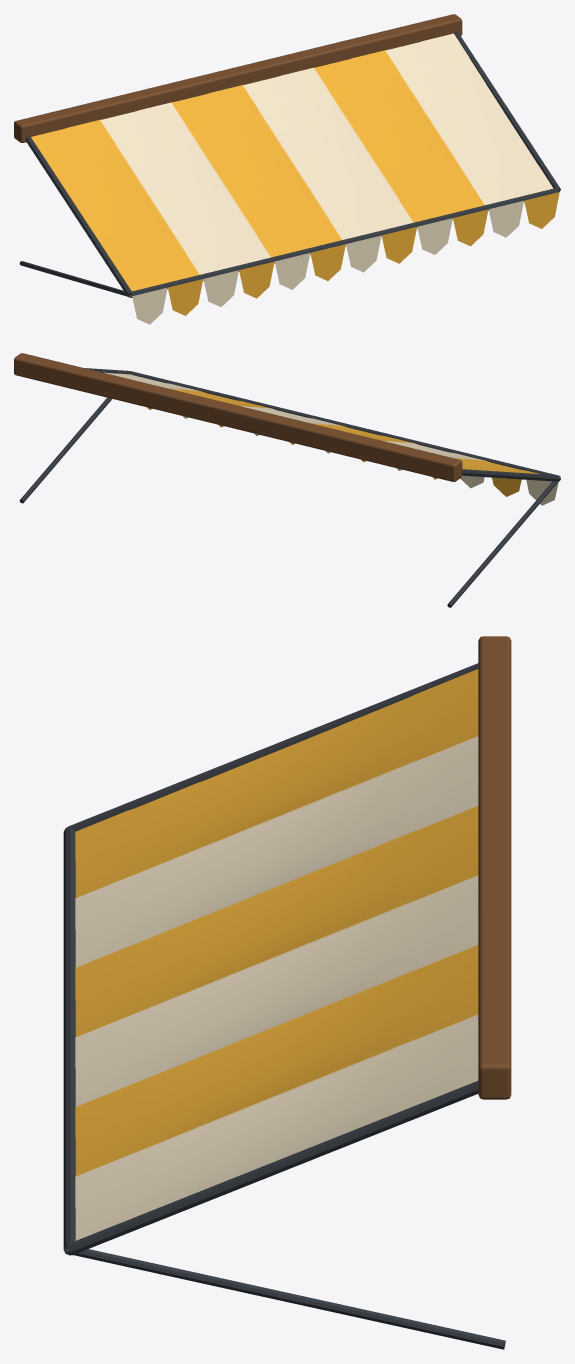
Rendered from mk_awning_saffron.glb.
3 renders of one model, top to bottom at view 1: azimuth 30°, elevation 25°; view 2: azimuth 150°, elevation 25°; view 3: azimuth 270°, elevation 25°, orthographic. The views are drawn at different scales.
Visible parts, largest first — view 1: mk_awning_saffron_body; view 2: mk_awning_saffron_body; view 3: mk_awning_saffron_body.
Part boxes in pixels (x1,y1,x2,y2): mk_awning_saffron_body: [14, 14, 560, 324]; mk_awning_saffron_body: [14, 353, 560, 607]; mk_awning_saffron_body: [63, 636, 511, 1349].
Bounding box in the file's own units: 3.1 × 0.9746 × 1.36.
